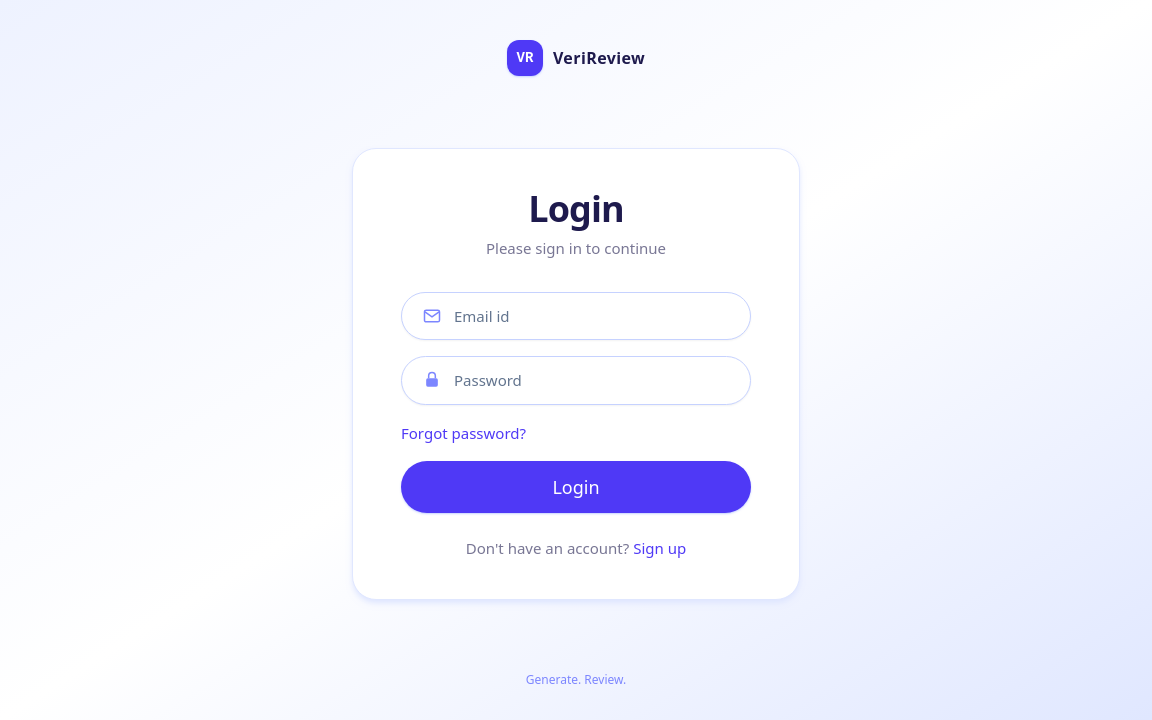
Test case: LoginPage auth error UX › maps 403 to the disabled-account message
The image size is (1152, 720).
In the field labelled "Email": coordinates (592, 316) x1=454 y1=304 x2=730 y2=327, type "dev@example.com"
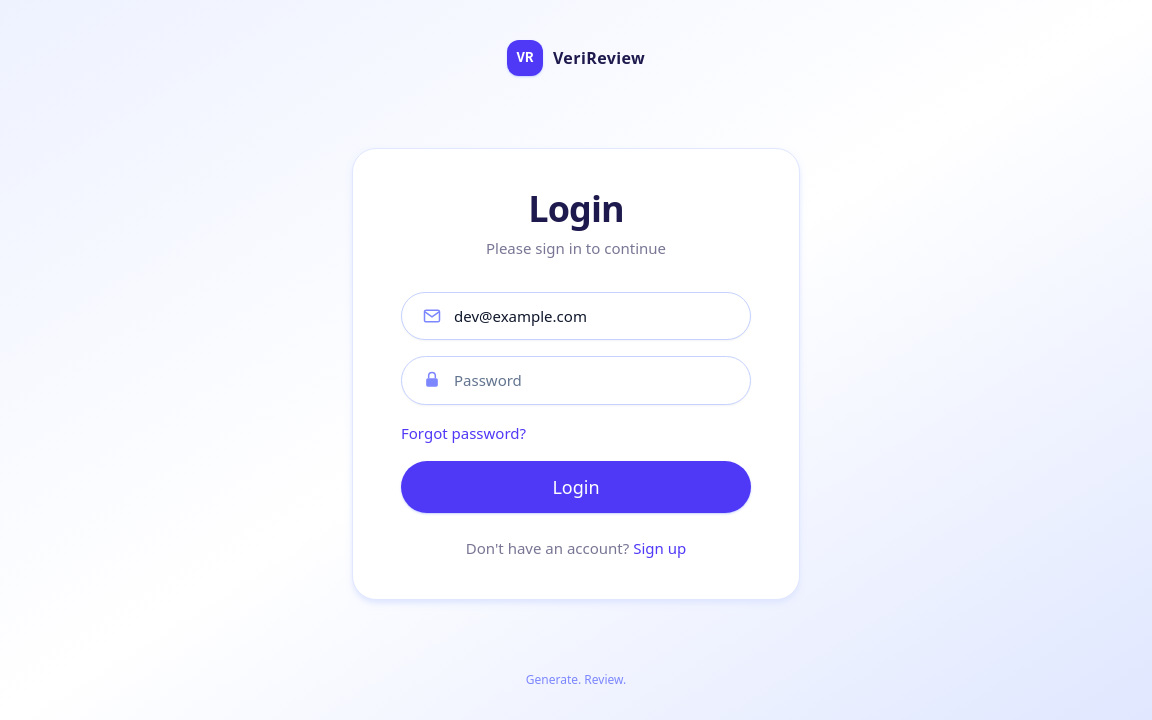
In the password field labelled "Password": coordinates (592, 380) x1=454 y1=369 x2=730 y2=392, type "secret-1"
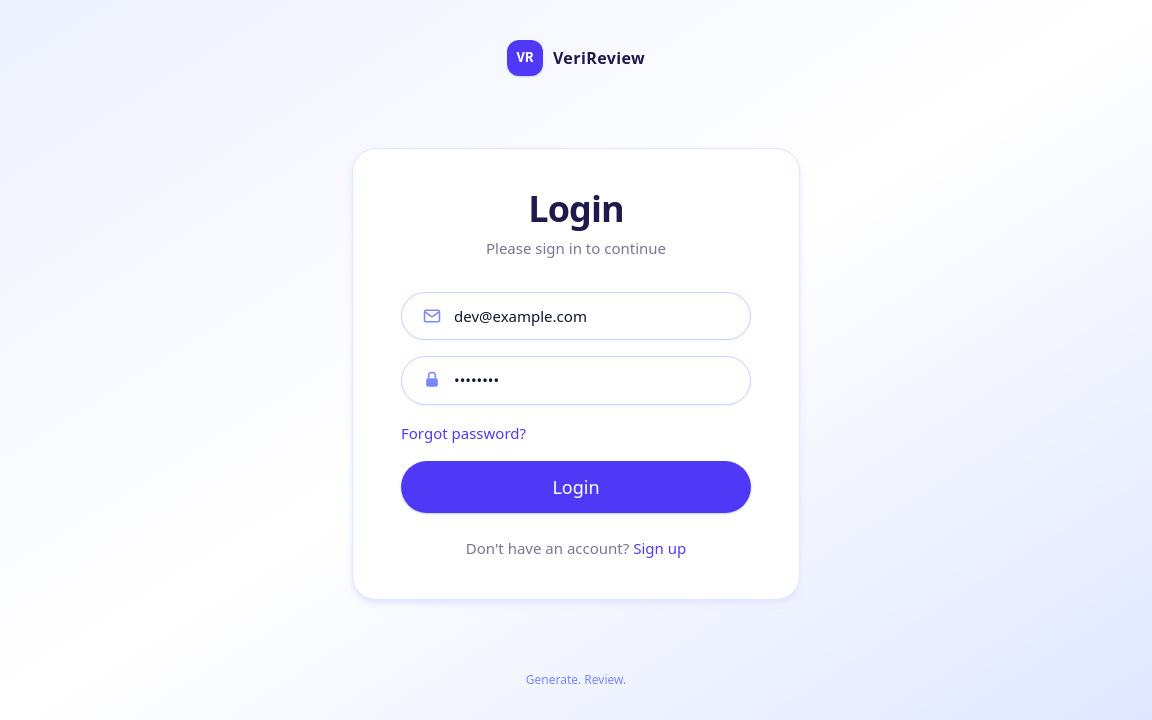
Click the button "Login": coordinates (576, 486) x1=401 y1=460 x2=751 y2=512
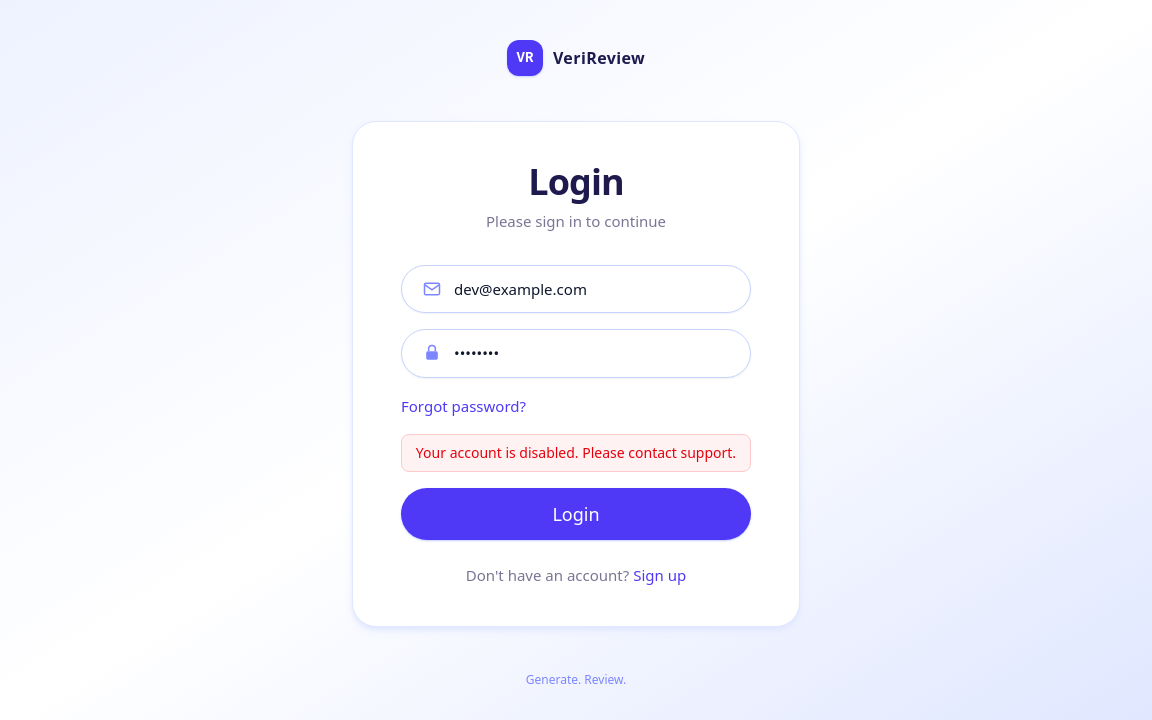
Check: the text "Your account is disabled. Please contact support." is shown, box x1=401 y1=434 x2=751 y2=472
